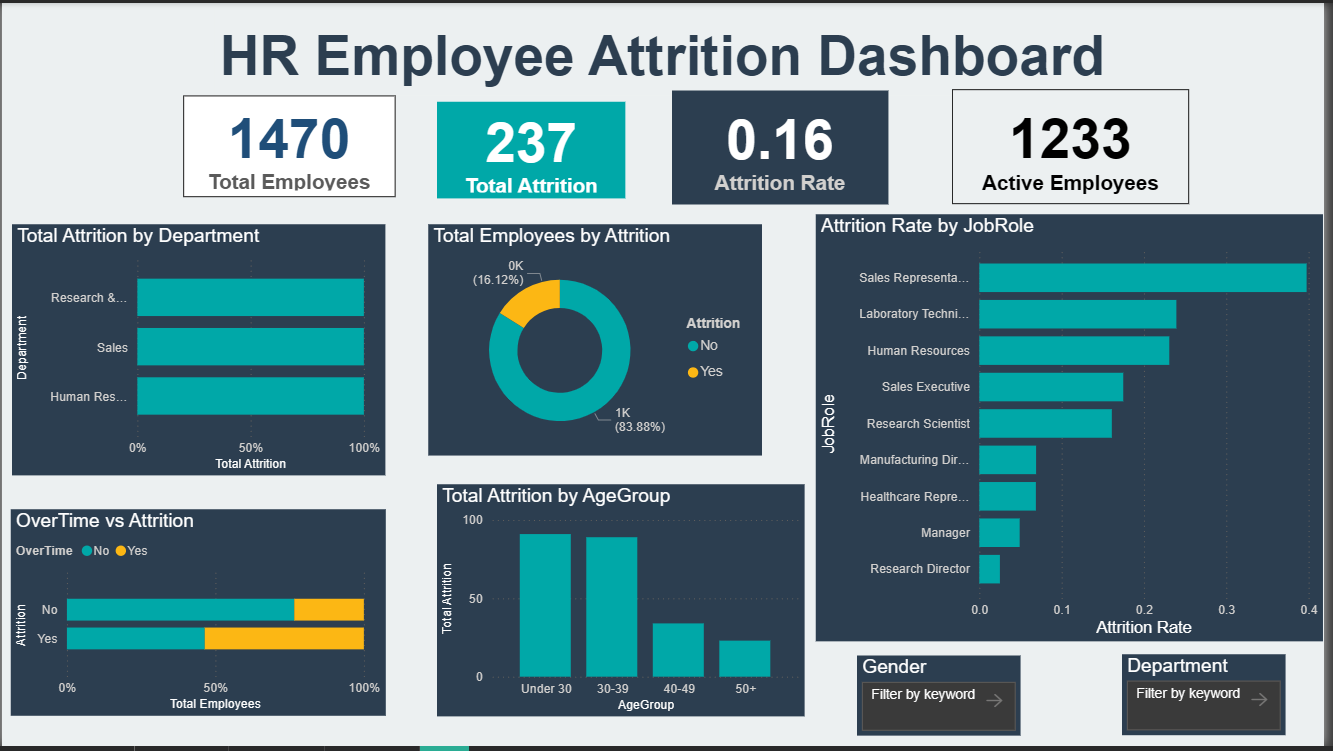

Layout of this report page (visuals, bound fields, positions):
{"tool":"powerbi","page":{"name":"Page 1","canvas":[1280,720],"ordinal":0},"visuals":[{"type":"textbox","box":[205.8,0,917.6,89.6],"z":0},{"type":"card","fields":{"Values":["Employee.Total Employees"]},"box":[175.5,89.6,205.8,98.1],"z":1000},{"type":"card","fields":{"Values":["Employee.Total Attrition"]},"box":[421.3,95.6,182.8,93.2],"z":2000},{"type":"card","fields":{"Values":["Employee.Attrition Rate"]},"box":[648.8,84.7,209.4,110.2],"z":3000},{"type":"card","fields":{"Values":["Employee.Active Employees"]},"box":[920,83.5,230,111.4],"z":4000},{"type":"hundredPercentStackedBarChart","fields":{"Category":["Employee.Department"],"Y":["Employee.Total Attrition"]},"box":[9.7,214.3,361.9,243.3],"z":5000},{"type":"donutChart","fields":{"Category":["Employee.Attrition"],"Y":["Employee.Total Employees"]},"box":[412.8,214.3,323.2,223.9],"z":6000},{"type":"clusteredColumnChart","fields":{"Category":["Employee.AgeGroup"],"Y":["Employee.Total Attrition"]},"box":[421.3,466,355.9,225.2],"z":7000},{"type":"clusteredBarChart","fields":{"Category":["Employee.JobRole"],"Y":["Employee.Attrition Rate"]},"box":[788,204.6,491.5,414],"z":8000},{"type":"hundredPercentStackedBarChart","title":"OverTime vs Attrition","fields":{"Category":["Employee.Attrition"],"Series":["Employee.OverTime"],"Y":["Employee.Total Employees"]},"box":[8.5,490.3,363.1,199.7],"z":9000},{"type":"textSlicer","fields":{"Values":["Employee.Gender"]},"box":[828,631.9,158.6,77.5],"z":10000},{"type":"textSlicer","fields":{"Values":["Employee.Department"]},"box":[1084.6,630.7,158.6,78.7],"z":11000}]}

Visuals, with their boxes in screenshot pixels (x1, y1, x2, y2), scaled from the page's 1280x720 canvas onto the 1333x751 screenshot:
textbox: select_region(214, 0, 1170, 93)
card - Employee.Total Employees: select_region(183, 93, 397, 196)
card - Employee.Total Attrition: select_region(439, 100, 629, 197)
card - Employee.Attrition Rate: select_region(676, 88, 894, 203)
card - Employee.Active Employees: select_region(958, 87, 1198, 203)
hundredPercentStackedBarChart - Employee.Department x Employee.Total Attrition: select_region(10, 224, 387, 477)
donutChart - Employee.Attrition x Employee.Total Employees: select_region(430, 224, 766, 457)
clusteredColumnChart - Employee.AgeGroup x Employee.Total Attrition: select_region(439, 486, 809, 721)
clusteredBarChart - Employee.JobRole x Employee.Attrition Rate: select_region(821, 213, 1332, 645)
"OverTime vs Attrition" hundredPercentStackedBarChart: select_region(9, 511, 387, 720)
textSlicer - Employee.Gender: select_region(862, 659, 1027, 740)
textSlicer - Employee.Department: select_region(1130, 658, 1295, 740)
